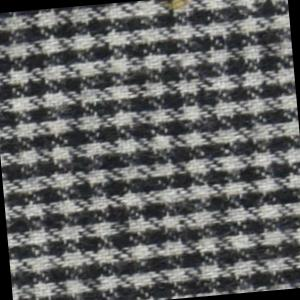Stain: (155, 1, 195, 13)
